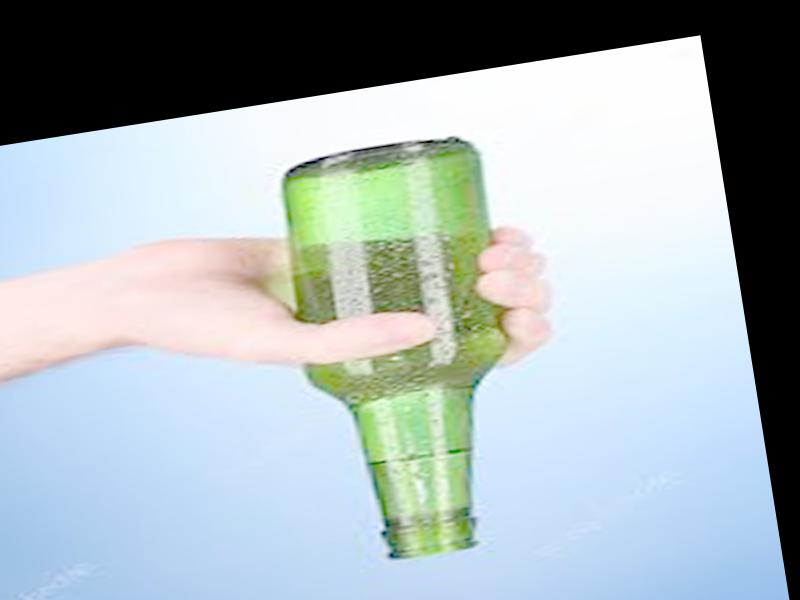Beer: (277, 130, 536, 570)
